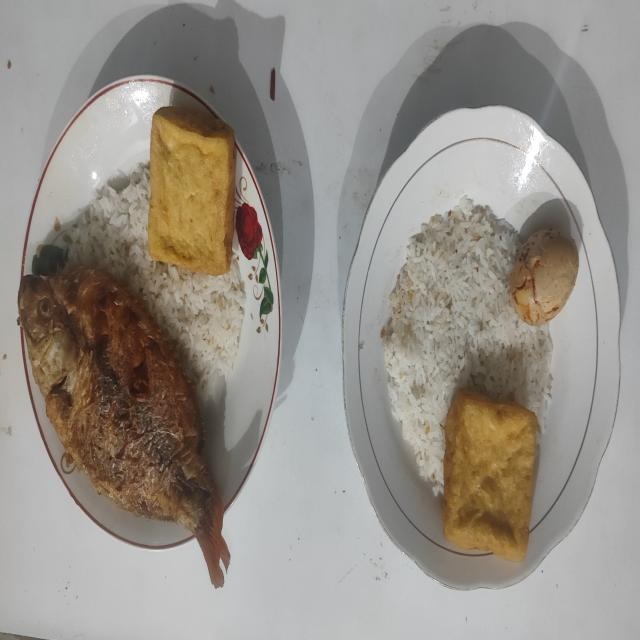ikan_mujair: (18, 268, 230, 586)
nasi_putih: (382, 195, 552, 496), (70, 166, 246, 394)
tahu_goreng: (442, 389, 538, 561), (148, 107, 236, 275)
